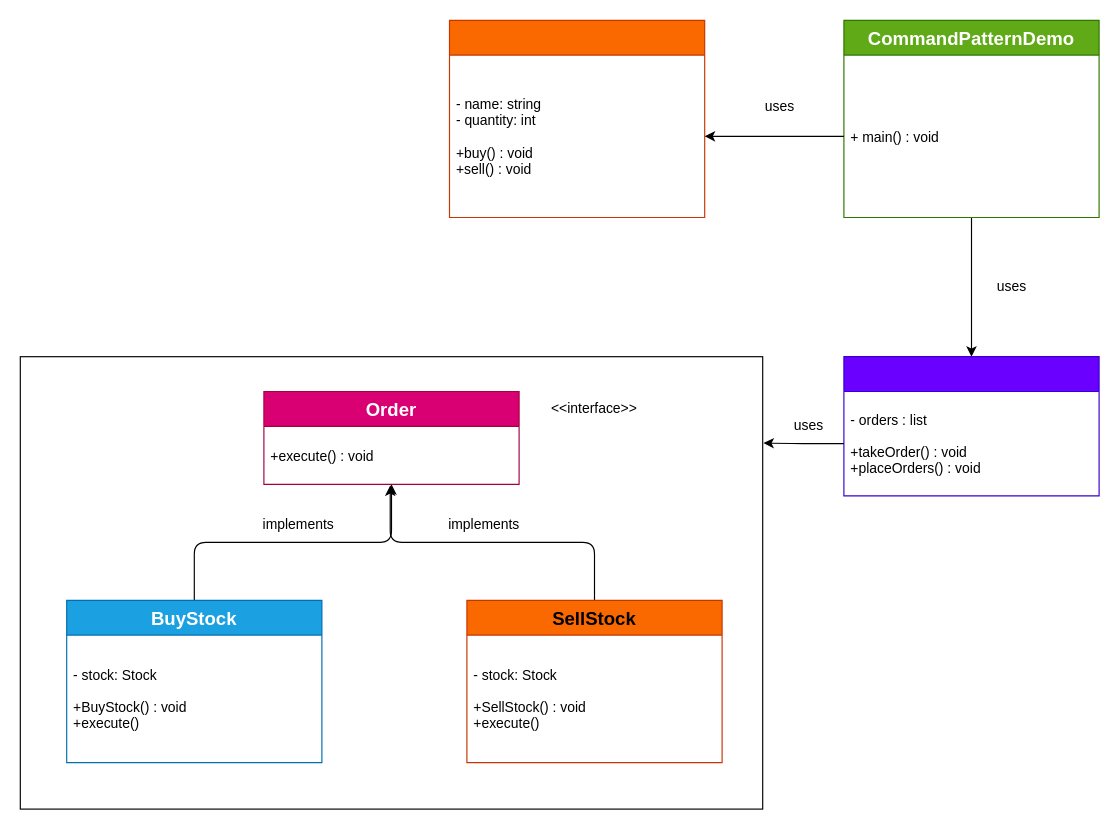
Some shapes in this 1119 by 829 pixel diagram are drawn without their labels. Here are the shapes that lost their labels. From the top down, the box of each, then its label:
(448, 19, 705, 217): Stock
(843, 356, 1099, 496): Broker
